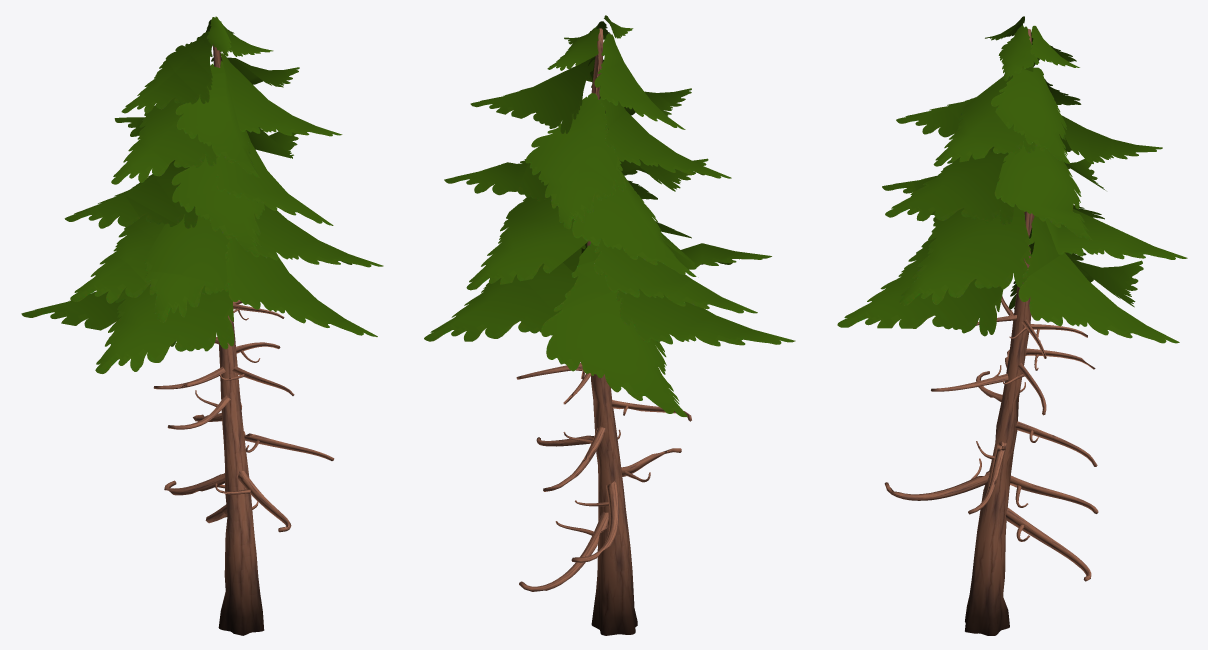
Rendered from pine_3_lod2.glb.
The picture shows the model from 3 angles, left to right: view 1: azimuth 30°, elevation 25°; view 2: azimuth 150°, elevation 25°; view 3: azimuth 270°, elevation 25°; orthographic projection. The views are drawn at different scales.
Parts seen in each view (by area): view 1: Pine_3; view 2: Pine_3; view 3: Pine_3.
Part boxes in pixels (x1,y1,x2,y2): Pine_3: (21,16,383,635); Pine_3: (424,15,795,635); Pine_3: (837,16,1187,635).
Bounding box in the file's own units: 3.61 × 7.39 × 4.
2 materials, 2 textured.
